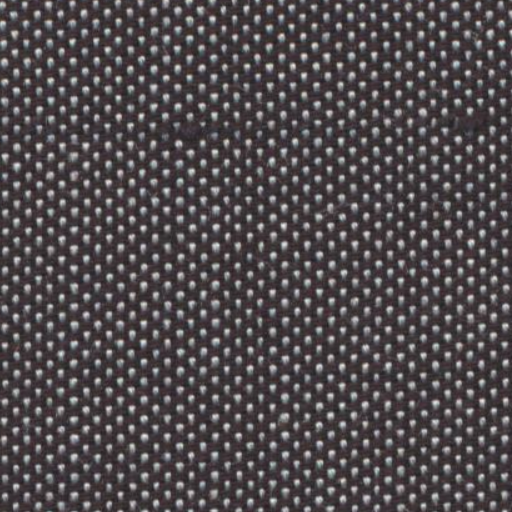TuoSha: (20, 90, 494, 162)
